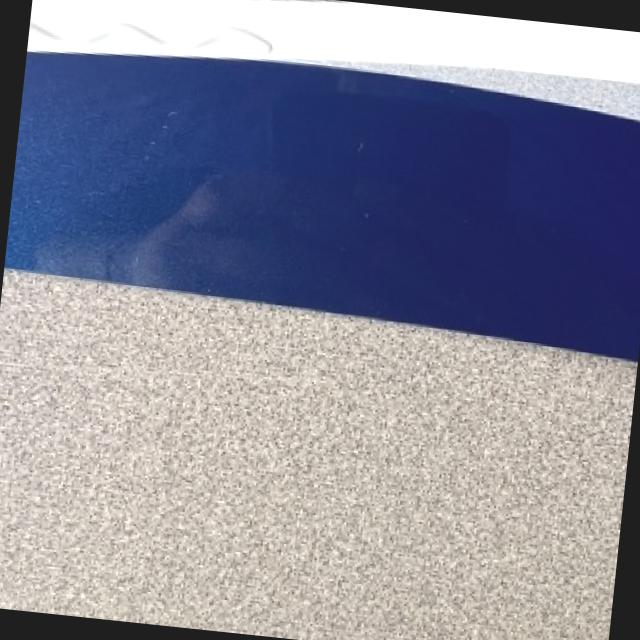healthy: (0, 268, 638, 640), (7, 0, 640, 346)
